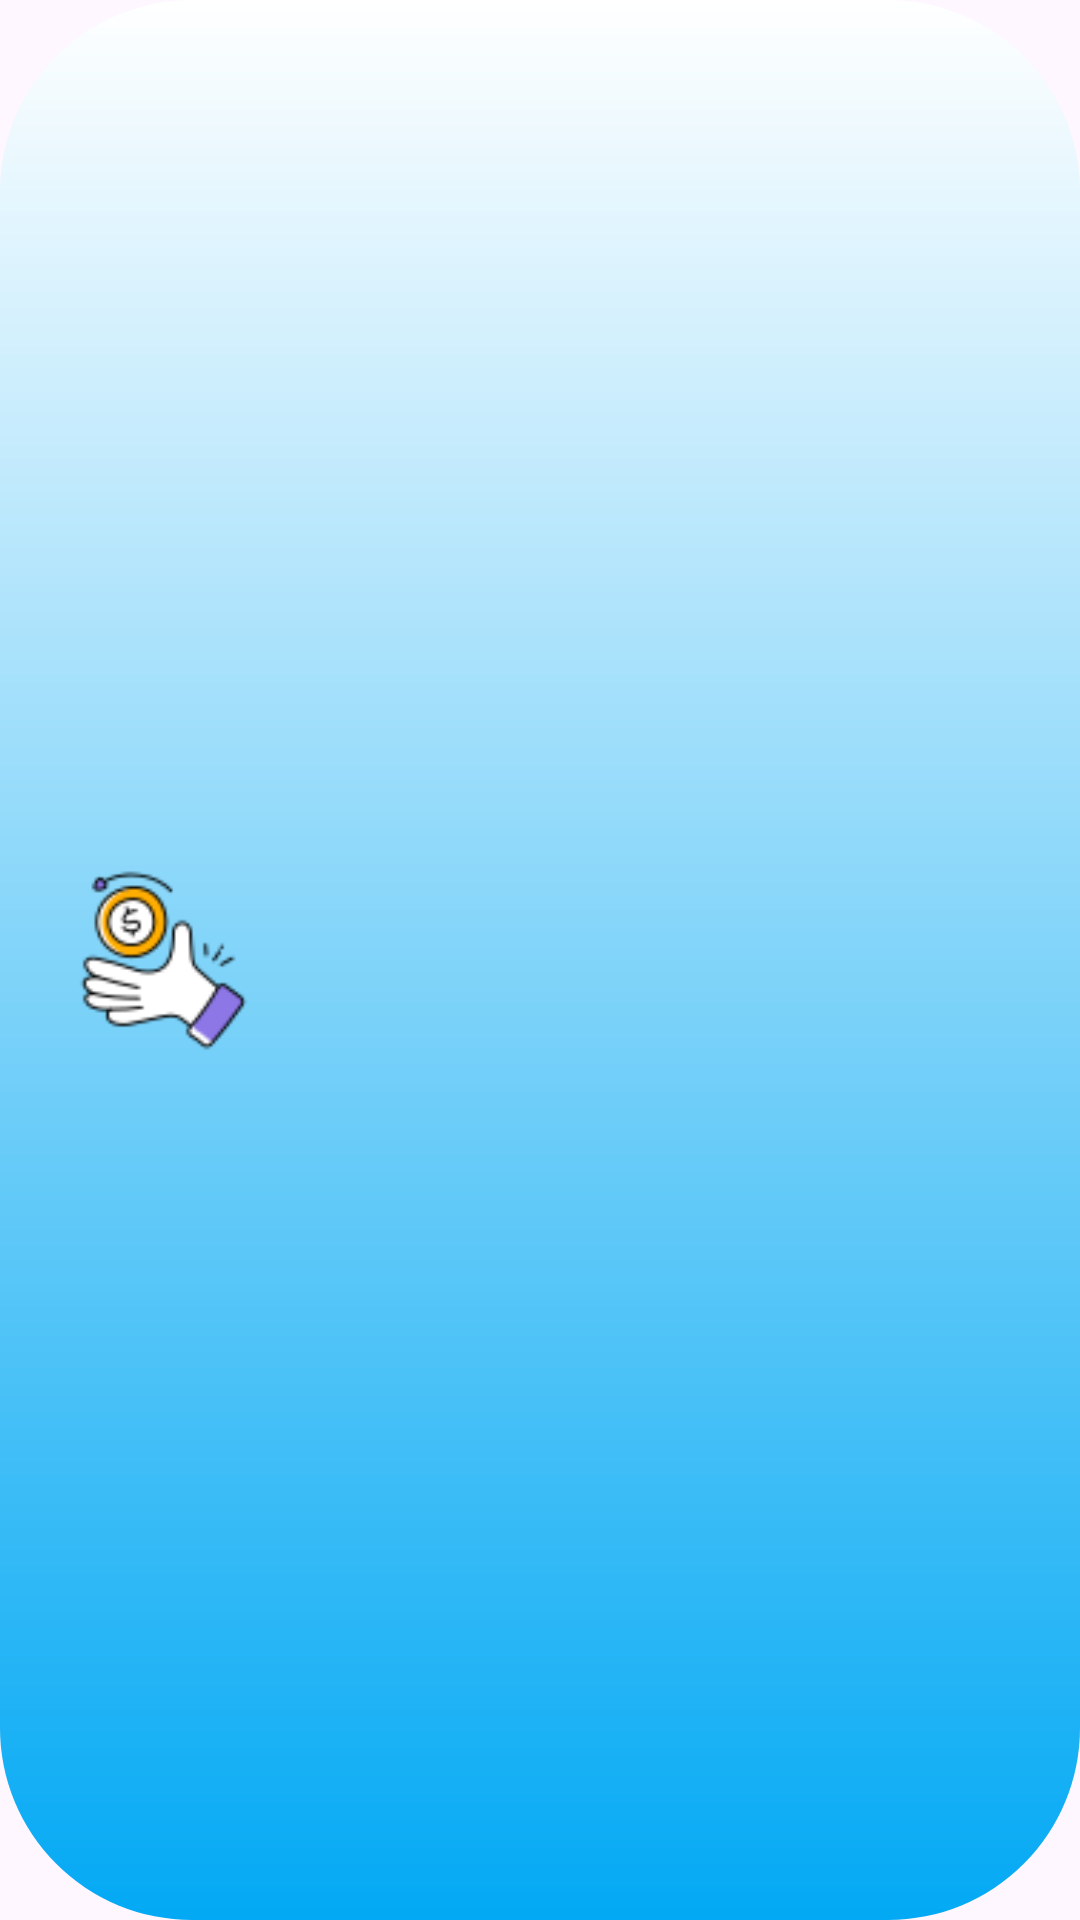

Icon bounding boxes for this 1080x1920 phone screenshot, format (x1, y1, x2, y2):
recieve: (72, 871, 255, 1064)
